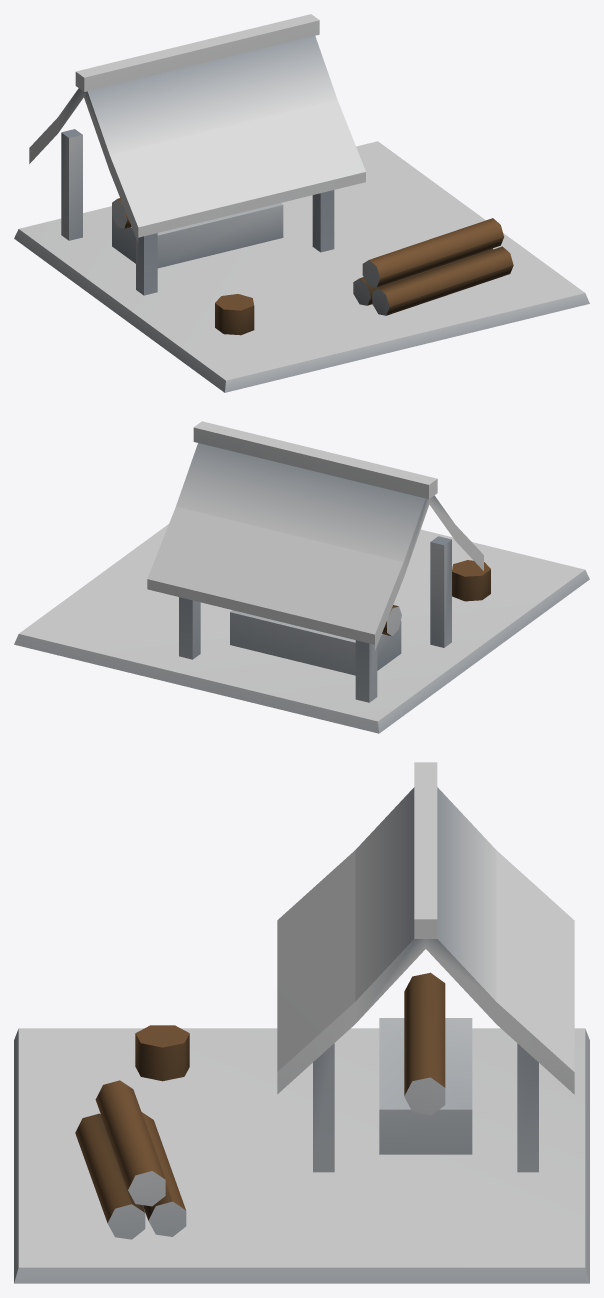
File: lumber_mill_t1.glb
The picture shows the model from 3 angles, top to bottom: view 1: azimuth 30°, elevation 25°; view 2: azimuth 150°, elevation 25°; view 3: azimuth 270°, elevation 25°; orthographic projection. The views are drawn at different scales.
Visible parts, largest first — view 1: lumber_mill_t1; view 2: lumber_mill_t1; view 3: lumber_mill_t1.
Boxes of the visible parts, x1,y1,x2,y2 form: lumber_mill_t1: (14,14,589,392); lumber_mill_t1: (14,421,589,733); lumber_mill_t1: (14,762,589,1283).
Size of the model in its own units: 1.86 by 1 by 1.86.
